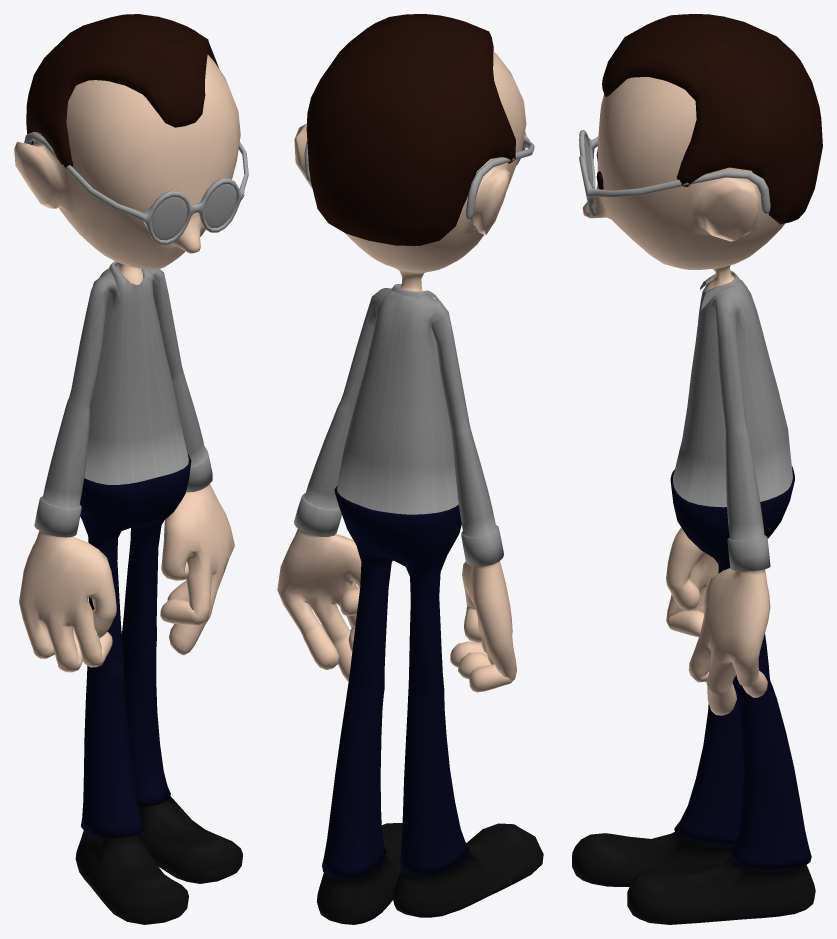
The model's file is Animation_Cartoon_Starter_000272.obj.
3 views of the same model, side by side, from view 1: azimuth 30°, elevation 25°; view 2: azimuth 150°, elevation 25°; view 3: azimuth 270°, elevation 25° (orthographic). The views are drawn at different scales.
Parts seen in each view (by area): view 1: bm_09; view 2: bm_09; view 3: bm_09.
Part boxes in pixels (bbox=[...]): bm_09: bbox=[14, 14, 248, 924]; bm_09: bbox=[277, 14, 543, 924]; bm_09: bbox=[572, 14, 822, 924].
Size of the model in its own units: 0.4096 by 1.51 by 0.3973.
3 materials, 1 textured.
